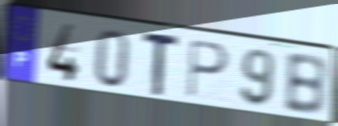0: (93, 28, 132, 89)
4: (45, 21, 80, 84)
9: (238, 46, 276, 110)
B: (282, 53, 329, 118)
P: (186, 37, 232, 101)
T: (141, 31, 182, 98)
